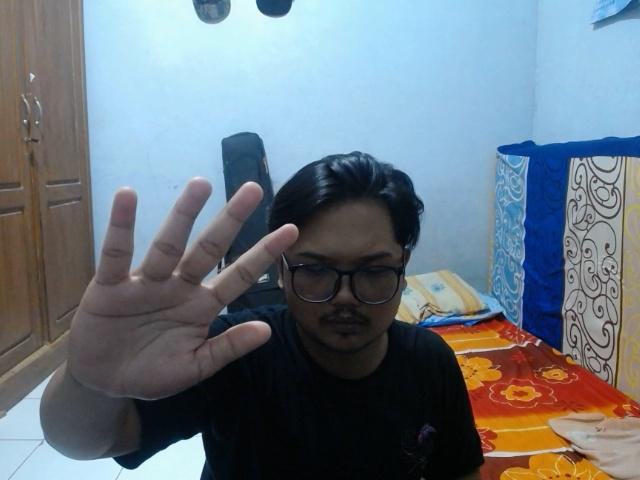Release: (62, 171, 301, 407)
